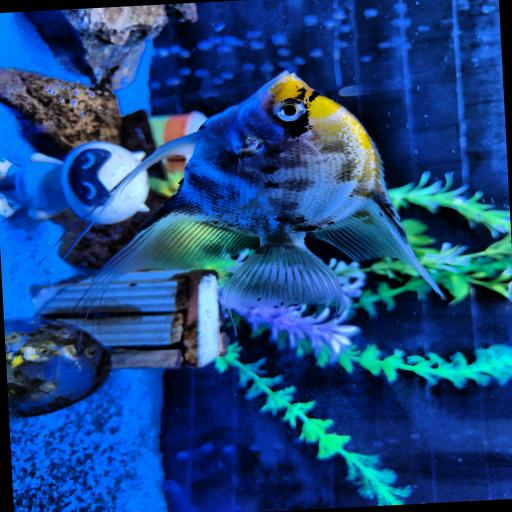Fish: (83, 71, 442, 306)
